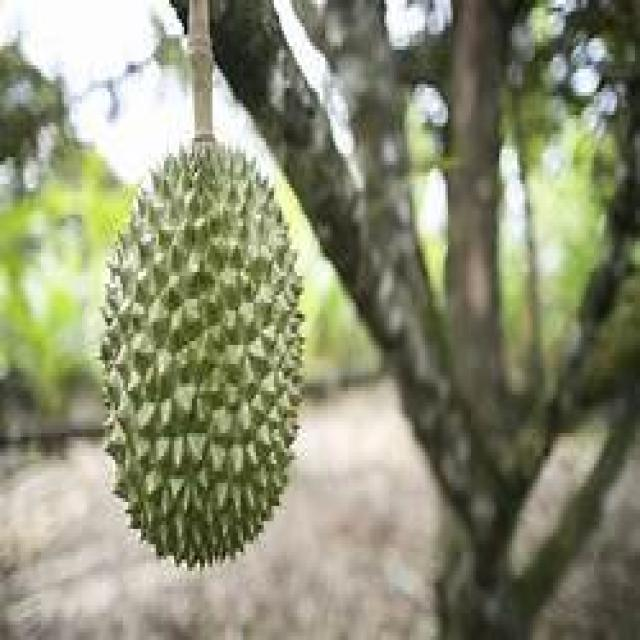immature: (98, 135, 306, 566)
